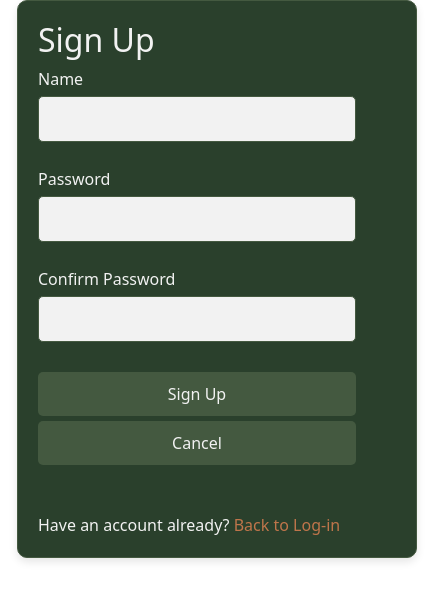
Test case: submitting form with valid data shows success message
The width and height of the screenshot is (435, 604).
Type "newUser" into the field with test id "signup-username" at (197, 119), box left=38, top=96, right=356, bottom=142
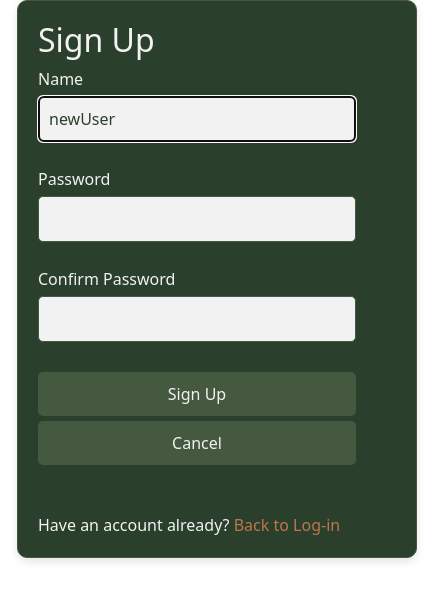
Type "newPassword" into the password field with test id "signup-password" at (197, 219), box left=38, top=196, right=356, bottom=242
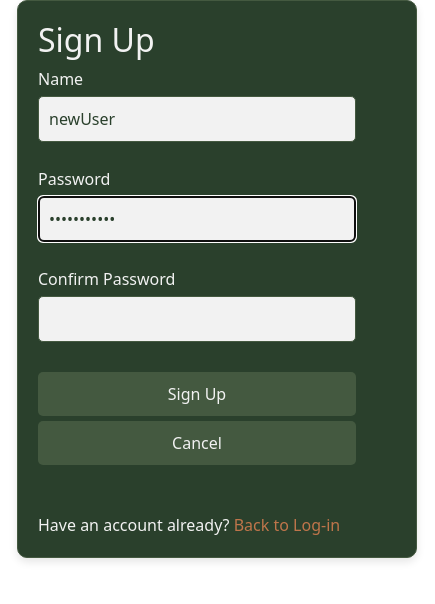
Type "newPassword" into the password field with test id "signup-password-confirm" at (197, 319), box left=38, top=296, right=356, bottom=342
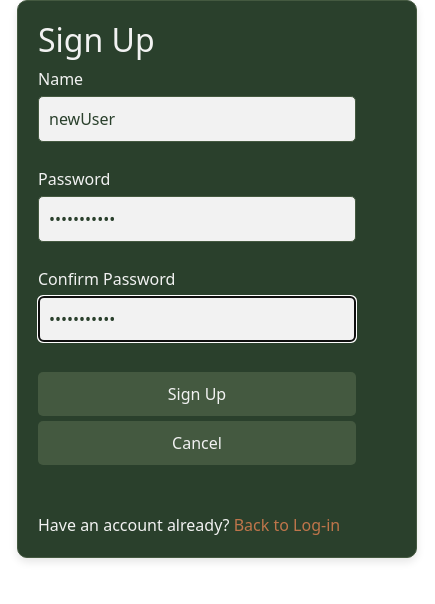
Click the button "Sign Up" at (197, 394), box left=38, top=372, right=356, bottom=416
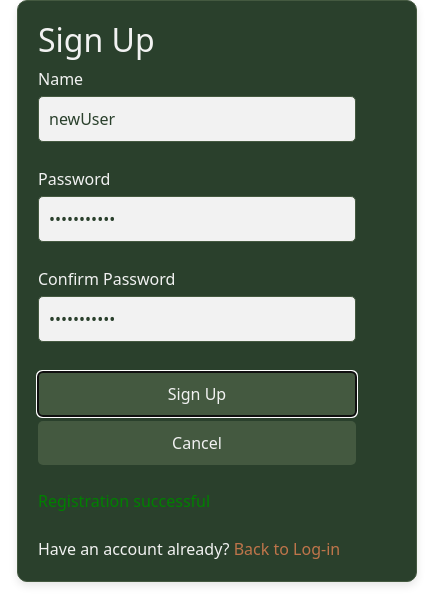
Result: the text "Registration successful" is shown at left=38, top=490, right=210, bottom=512
